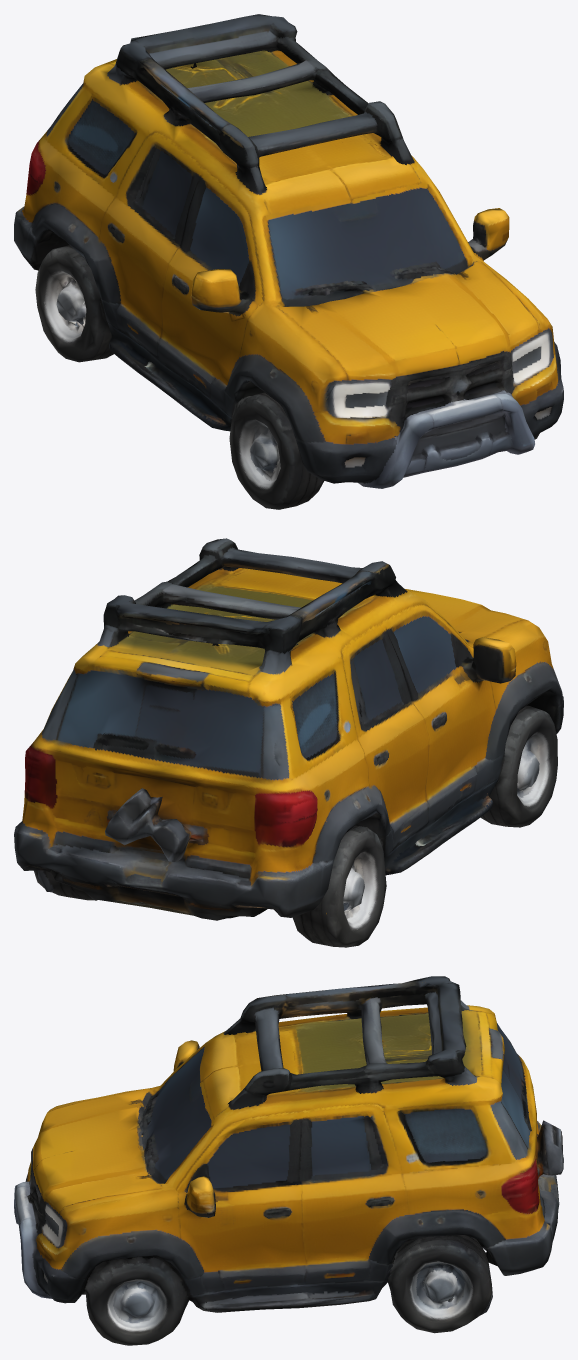
The model's file is NPC_FamilySUV.fbx.
The picture shows the model from 3 angles, top to bottom: view 1: azimuth 30°, elevation 25°; view 2: azimuth 150°, elevation 25°; view 3: azimuth 270°, elevation 25°; orthographic projection. The views are drawn at different scales.
Parts seen in each view (by area): view 1: NPC_FamilySUV; view 2: NPC_FamilySUV; view 3: NPC_FamilySUV.
Boxes of the visible parts, <box> form: NPC_FamilySUV: <box>14,14,563,509</box>; NPC_FamilySUV: <box>14,538,563,947</box>; NPC_FamilySUV: <box>14,976,563,1345</box>.
Size of the model in its own units: 269 by 251 by 450.
Materials: 2 (2 with a texture image).
